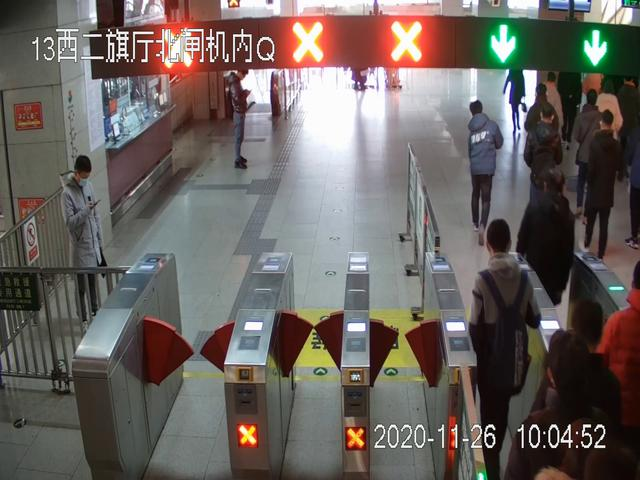person: (470, 219, 542, 480), (516, 168, 575, 350), (61, 155, 106, 326), (583, 110, 620, 268), (468, 100, 504, 246), (525, 107, 565, 238), (575, 89, 601, 218), (224, 66, 255, 170)
